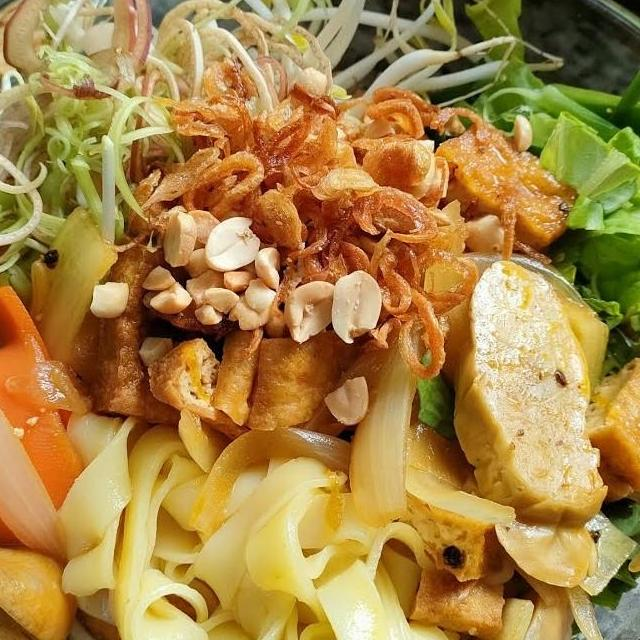dau hu: (78, 168, 208, 434), (138, 316, 358, 446), (423, 117, 584, 255), (573, 351, 640, 506)
mi: (40, 398, 537, 640)
